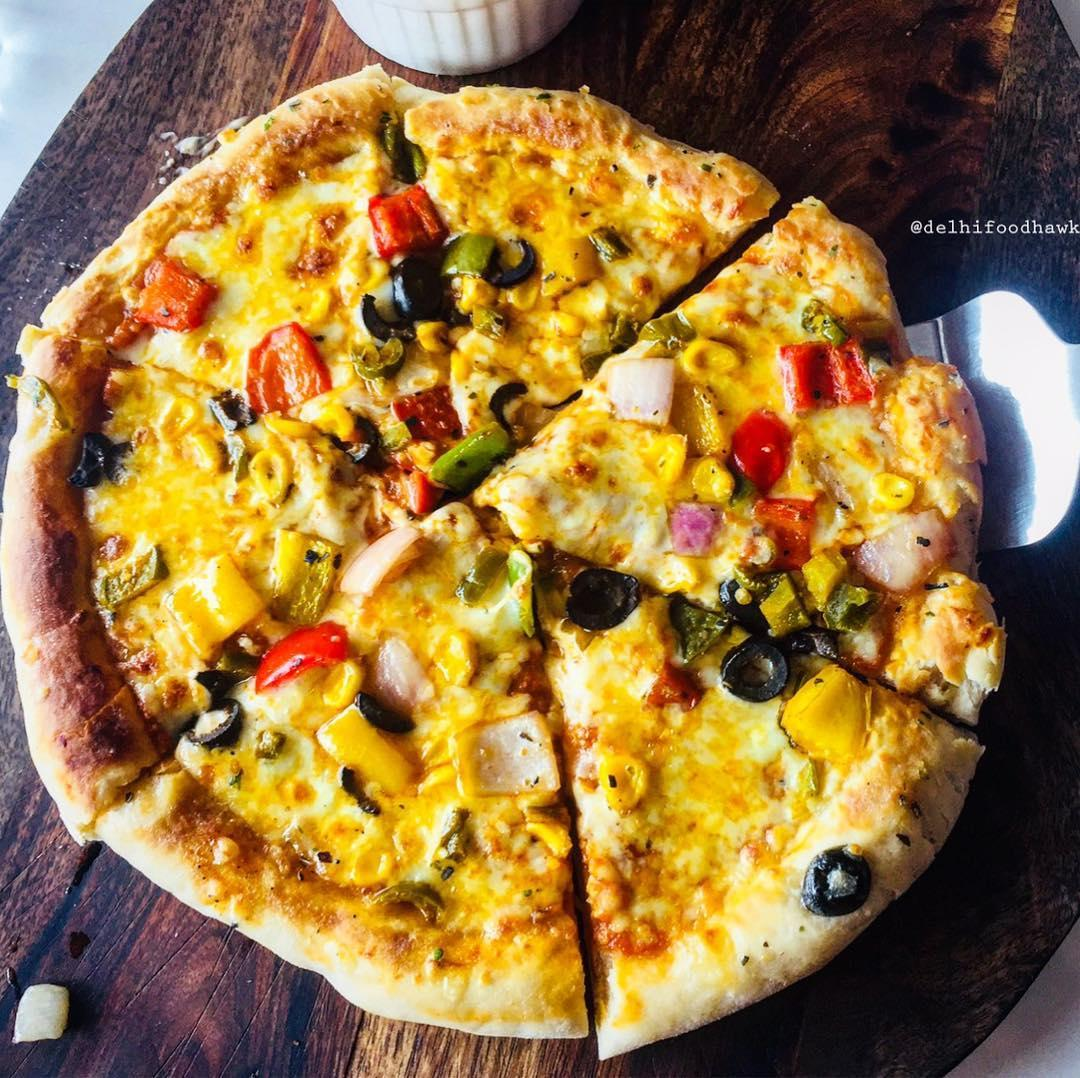Corn: (415, 624, 485, 698), (594, 749, 658, 815), (245, 442, 302, 499), (523, 807, 578, 866), (684, 336, 750, 384), (181, 421, 230, 477), (869, 469, 925, 516), (318, 654, 362, 713), (690, 456, 733, 508), (538, 300, 589, 343), (415, 313, 459, 355), (645, 439, 687, 477)
Onion: (453, 709, 563, 798), (860, 497, 956, 597), (591, 346, 685, 442), (560, 555, 645, 647), (343, 523, 427, 606), (801, 835, 873, 915), (367, 638, 437, 714), (714, 636, 792, 704), (176, 697, 252, 755), (388, 260, 451, 329), (666, 493, 723, 565), (771, 618, 849, 665), (487, 231, 542, 292), (350, 697, 424, 742), (700, 572, 765, 621), (476, 377, 538, 425), (322, 411, 379, 461), (203, 384, 252, 434), (363, 292, 402, 354), (80, 434, 123, 489), (192, 668, 251, 702)
Peppers: (774, 663, 878, 780), (160, 549, 268, 654), (761, 333, 882, 422), (233, 320, 345, 411), (128, 249, 225, 350), (245, 613, 368, 688), (357, 171, 443, 259), (421, 425, 511, 496), (727, 405, 802, 490), (359, 871, 453, 937), (755, 487, 825, 571), (665, 597, 741, 652), (375, 112, 431, 185), (396, 384, 464, 444), (543, 222, 598, 296), (375, 466, 454, 517), (674, 389, 731, 458), (430, 229, 501, 282), (757, 574, 817, 634)
Pizza: (4, 87, 998, 1032)
